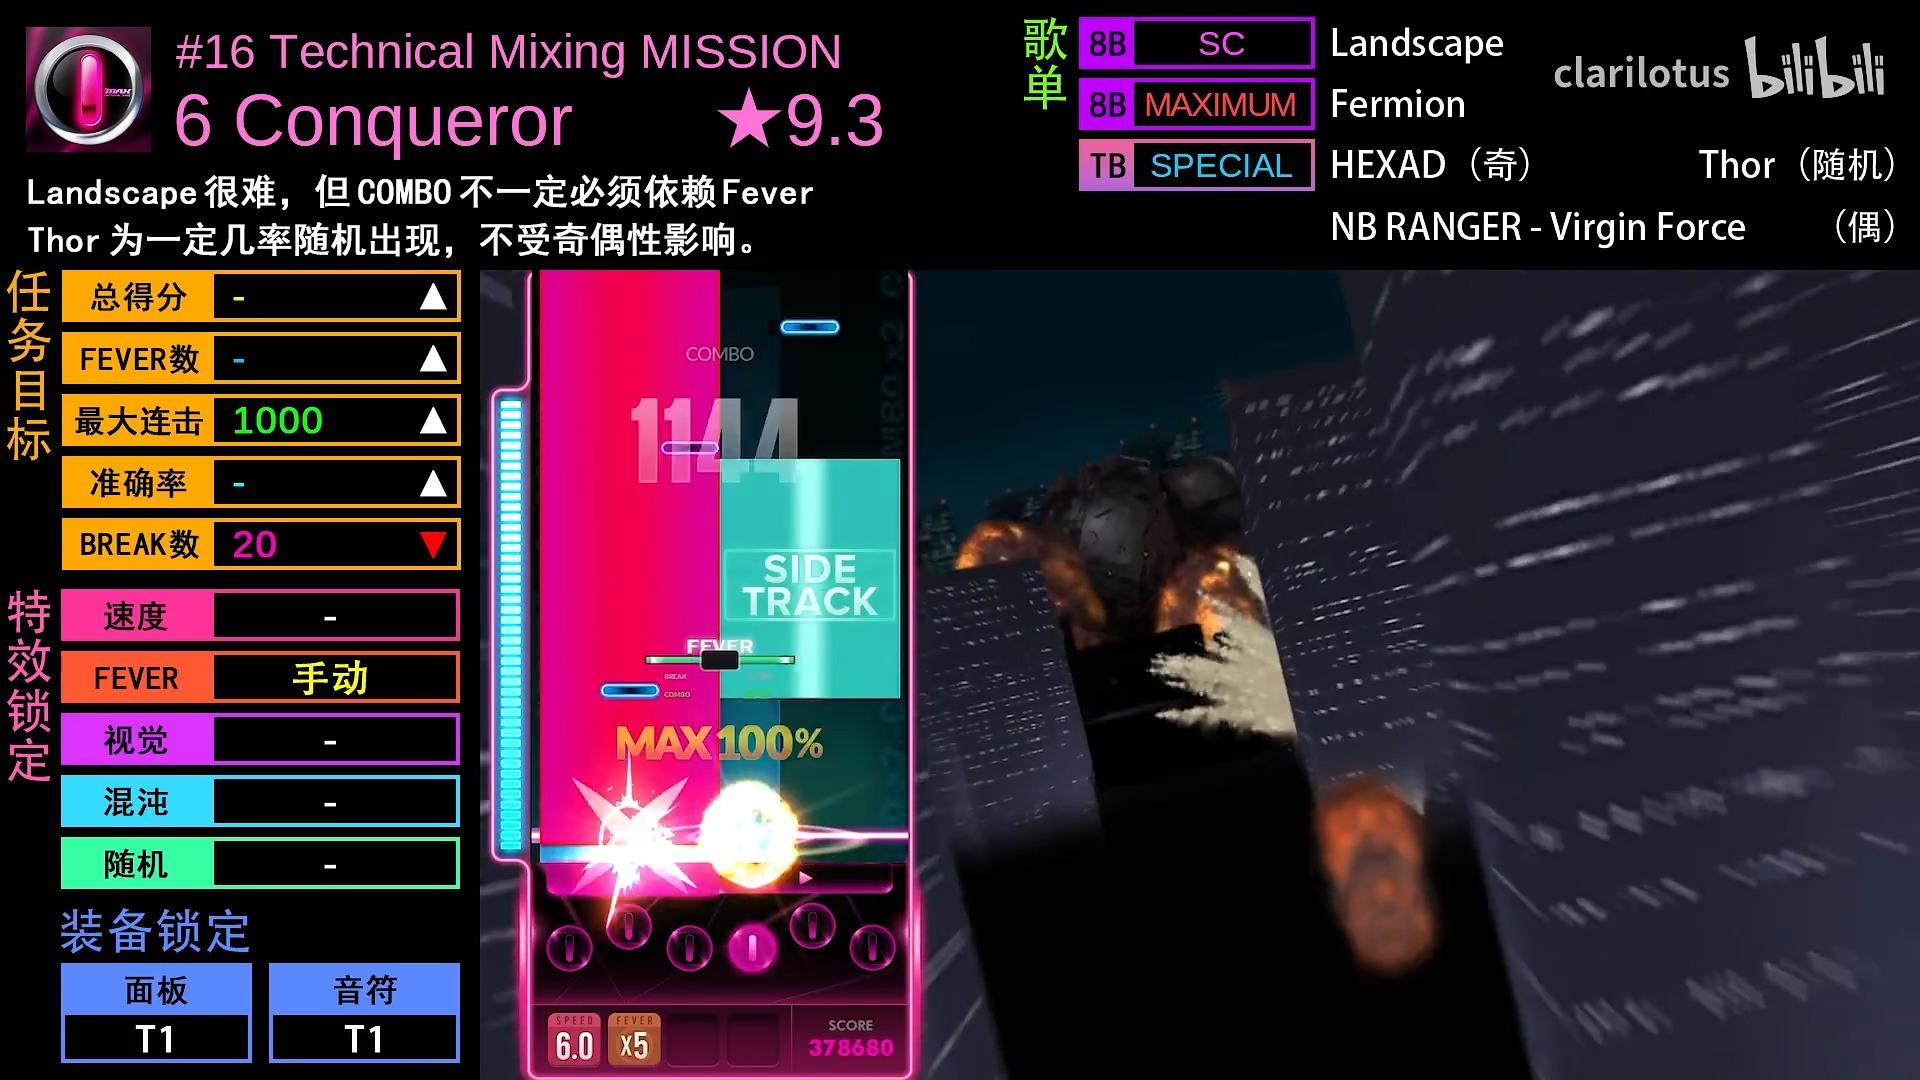note: (600, 680, 661, 702), (781, 319, 840, 336), (661, 440, 720, 456)
side-end: (720, 458, 901, 473)
side-start: (720, 679, 901, 700)
